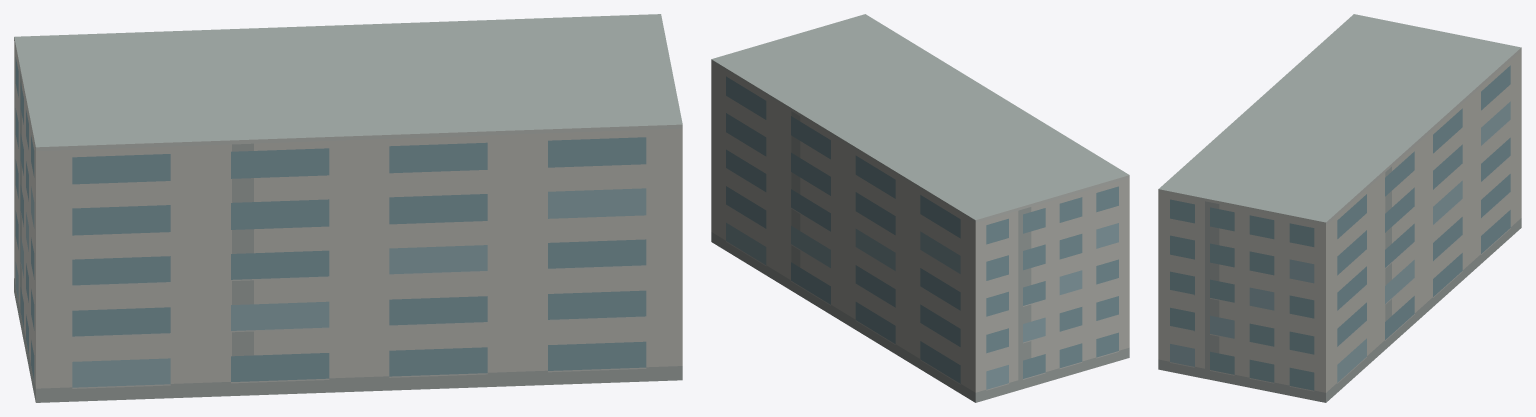
Rendered from residential-53f8d115-8107-4487-a485-6a97cd7ec5b7.glb.
3 views of the same model, side by side, from view 1: azimuth 30°, elevation 25°; view 2: azimuth 150°, elevation 25°; view 3: azimuth 270°, elevation 25° (orthographic). The views are drawn at different scales.
Parts seen in each view (by area): view 1: residential-53f8d115-8107-4487-a485-6a97cd7ec5b7.tmp; view 2: residential-53f8d115-8107-4487-a485-6a97cd7ec5b7.tmp; view 3: residential-53f8d115-8107-4487-a485-6a97cd7ec5b7.tmp.
Boxes of the visible parts, bbox=[...] form: residential-53f8d115-8107-4487-a485-6a97cd7ec5b7.tmp: bbox=[14, 14, 682, 402]; residential-53f8d115-8107-4487-a485-6a97cd7ec5b7.tmp: bbox=[711, 14, 1129, 402]; residential-53f8d115-8107-4487-a485-6a97cd7ec5b7.tmp: bbox=[1158, 14, 1521, 402].
Size of the model in its own units: 37.81 by 15.25 by 27.82.
